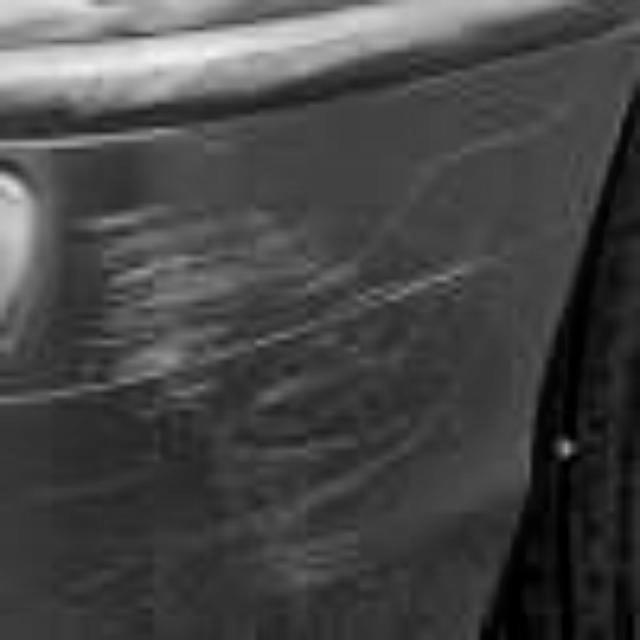front-bumper-dent: (0, 1, 640, 634)
